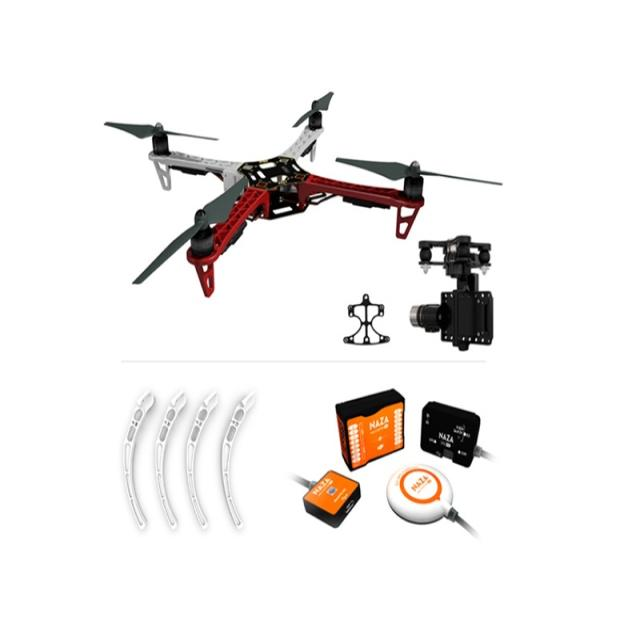drone: (101, 90, 506, 312)
